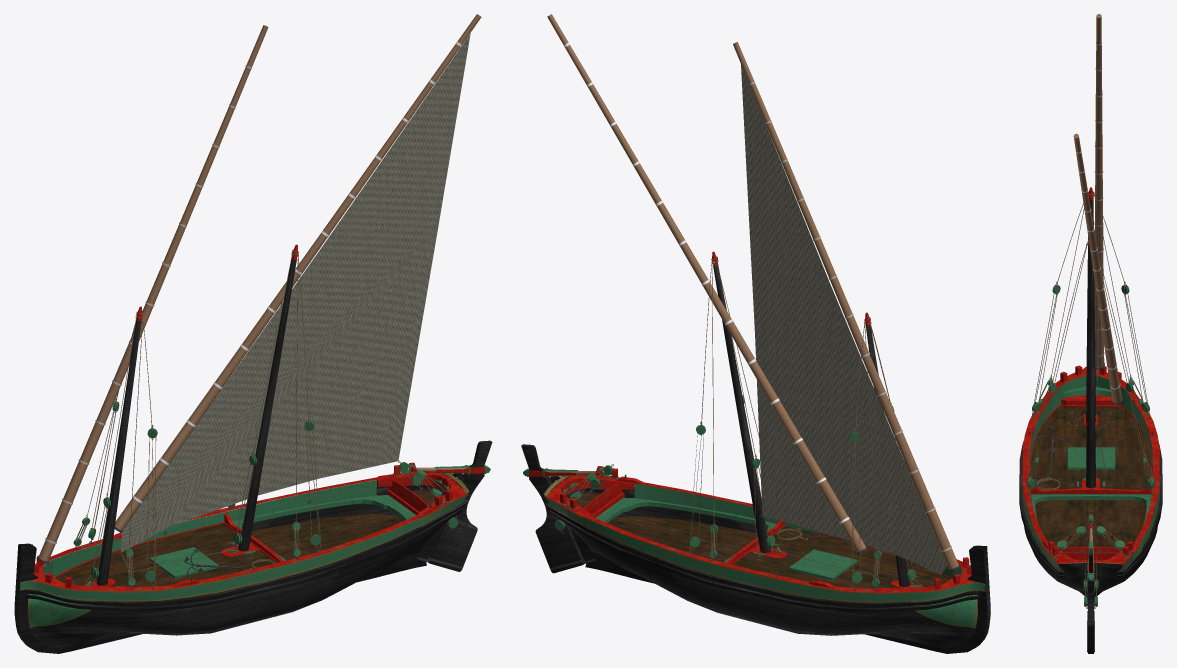
The model's file is falua.glb.
3 views of the same model, side by side, from view 1: azimuth 30°, elevation 25°; view 2: azimuth 150°, elevation 25°; view 3: azimuth 270°, elevation 25° (orthographic). The views are drawn at different scales.
Visible parts, largest first — view 1: Vela Principal, Casco, Chao01, Mastro04, Mastro03, Casco.008, Casco.001, Casco.012, Casco.013, Chao04, Quilha, Mastro02 (+6 smaller); view 2: Vela Frente, Casco, Mastro04, Chao01, Mastro03, Casco.008, Casco.001, Chao04, Casco.012, Quilha, Leme01, Mastro02 (+4 smaller); view 3: Chao01, Chao04, Casco.012, Mastro03, Mastro04, Mastro02, Casco, Casco.013, Casco.001, Chao05, Cube, Corda03 (+12 smaller).
Part boxes in pixels (x1=…): Vela Principal: x1=121, y1=33, x2=470, y2=552; Casco: x1=27, y1=466, x2=469, y2=648; Chao01: x1=56, y1=523, x2=280, y2=586; Mastro04: x1=115, y1=14, x2=481, y2=530; Mastro03: x1=38, y1=25, x2=268, y2=561; Casco.008: x1=20, y1=493, x2=468, y2=601; Casco.001: x1=25, y1=486, x2=466, y2=611; Casco.012: x1=30, y1=471, x2=467, y2=591; Casco.013: x1=43, y1=480, x2=376, y2=577; Chao04: x1=74, y1=513, x2=403, y2=623; Quilha: x1=14, y1=473, x2=463, y2=653; Mastro02: x1=238, y1=259, x2=296, y2=551; Vela Frente: x1=741, y1=64, x2=947, y2=574; Casco: x1=543, y1=476, x2=977, y2=648; Mastro04: x1=547, y1=14, x2=866, y2=552; Chao01: x1=729, y1=526, x2=949, y2=588; Mastro03: x1=733, y1=42, x2=958, y2=569; Casco.008: x1=544, y1=496, x2=985, y2=602; Casco.001: x1=546, y1=503, x2=979, y2=611; Chao04: x1=607, y1=516, x2=935, y2=623; Casco.012: x1=545, y1=474, x2=975, y2=593; Quilha: x1=550, y1=476, x2=990, y2=653; Leme01: x1=521, y1=444, x2=583, y2=573; Mastro02: x1=713, y1=262, x2=770, y2=553; Chao01: x1=1031, y1=405, x2=1150, y2=494; Chao04: x1=1023, y1=454, x2=1158, y2=565; Casco.012: x1=1022, y1=366, x2=1159, y2=564; Mastro03: x1=1094, y1=14, x2=1104, y2=367; Mastro04: x1=1073, y1=133, x2=1122, y2=403; Mastro02: x1=1086, y1=249, x2=1095, y2=488; Casco: x1=1022, y1=387, x2=1159, y2=603; Casco.013: x1=1029, y1=375, x2=1152, y2=499; Casco.001: x1=1019, y1=441, x2=1162, y2=578; Chao05: x1=1031, y1=494, x2=1151, y2=545; Cube: x1=1067, y1=447, x2=1115, y2=469; Corda03: x1=1031, y1=285, x2=1150, y2=418.
Bounding box in the file's own units: 1152 × 1362 × 320.
Materials: 15 (14 with a texture image).
